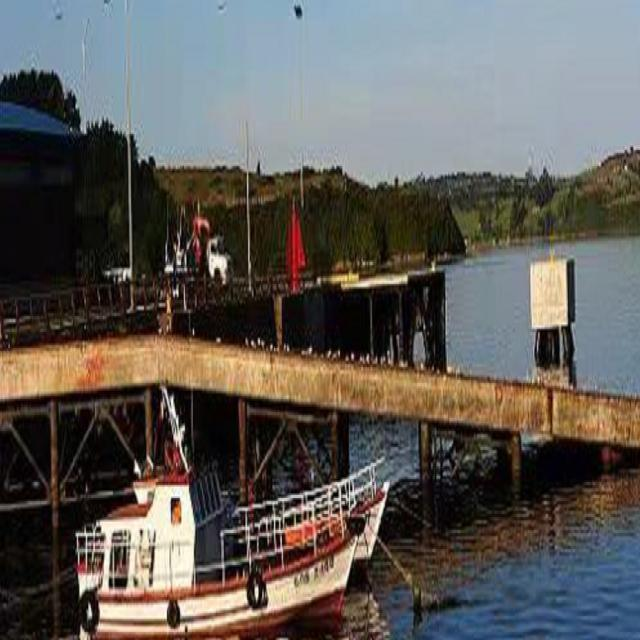houseboat: (71, 445, 380, 640)
